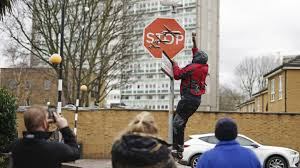stop sign: (143, 17, 186, 59)
